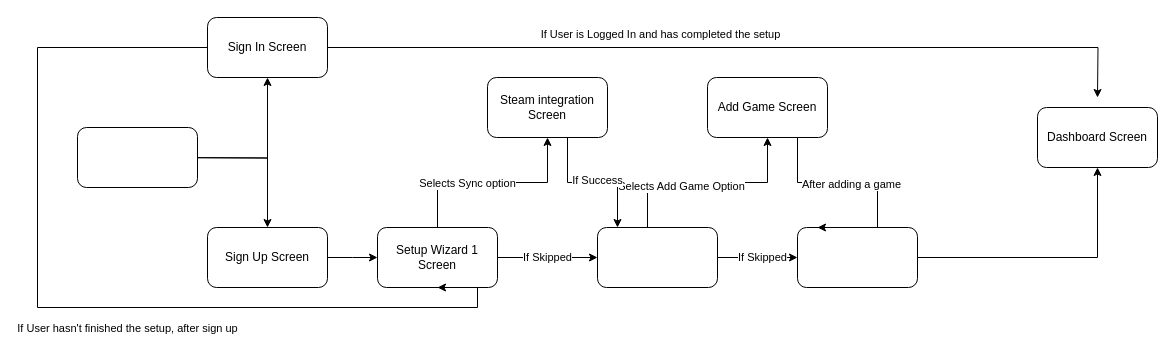
Some shapes in this 1175 by 352 pixel diagram are drawn without their labels. Here are the shapes that lost their labels. From the top down, the box of each, then its label:
(76, 126, 198, 188): Landing Screen
(596, 226, 718, 288): Setup Wizard 2 Screen
(796, 226, 918, 288): Setup Wizard 3 Screen
